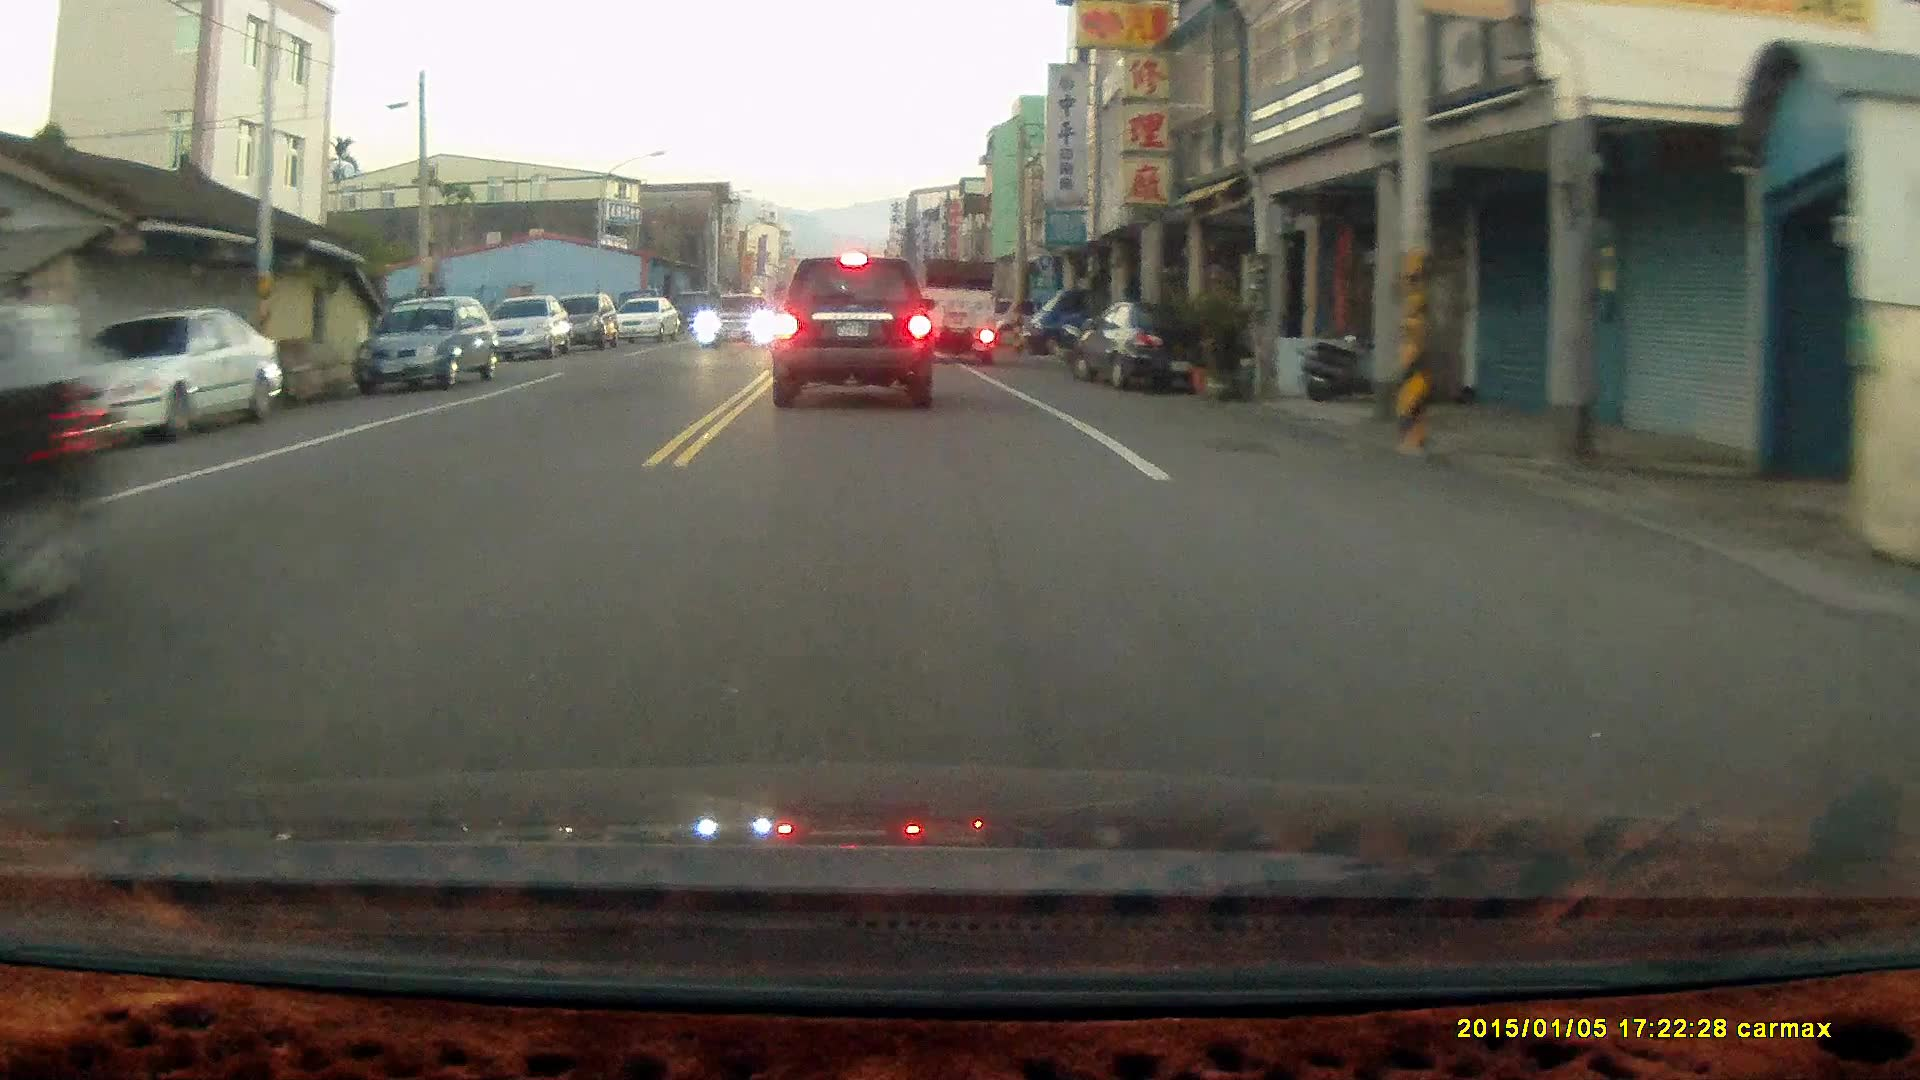vehicle: (1, 290, 112, 645), (55, 306, 273, 444), (771, 252, 936, 407), (1073, 298, 1230, 389), (357, 295, 498, 392), (909, 257, 1004, 371), (1027, 280, 1153, 361), (491, 294, 568, 361), (698, 293, 778, 349), (546, 291, 621, 349), (613, 297, 683, 347)
